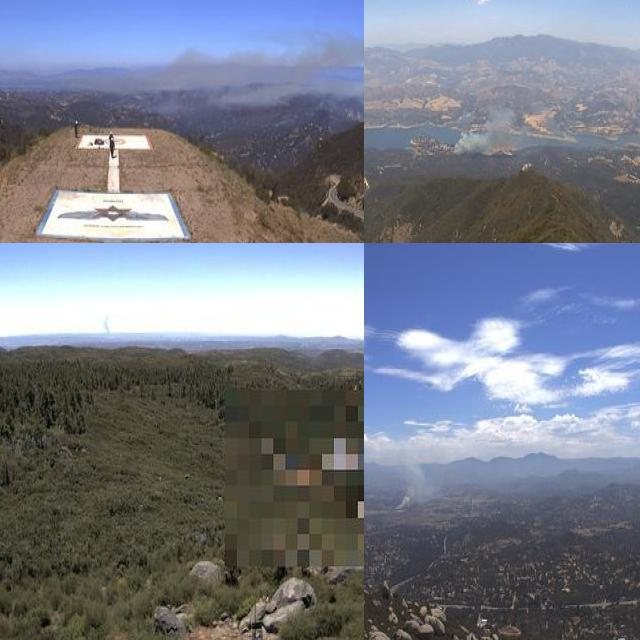smoke: (182, 31, 364, 117), (447, 98, 531, 159), (392, 442, 443, 513), (96, 312, 115, 342)
